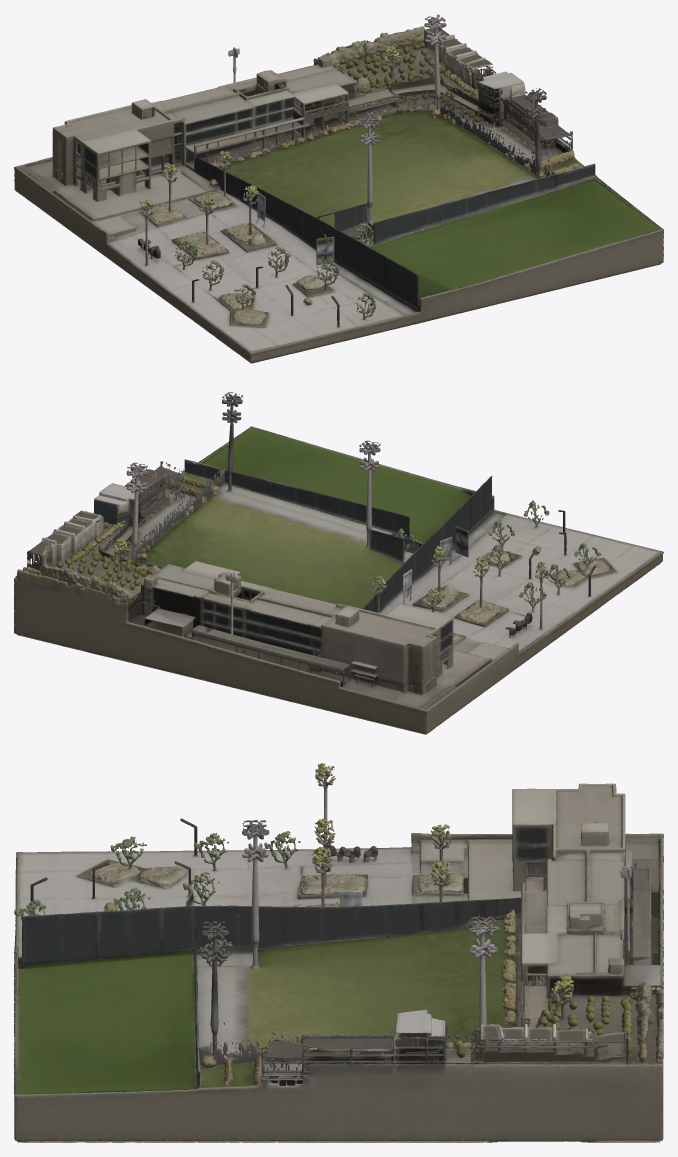
The model's file is el-hadaf-training-center-2.glb.
The picture shows the model from 3 angles, top to bottom: view 1: azimuth 30°, elevation 25°; view 2: azimuth 150°, elevation 25°; view 3: azimuth 270°, elevation 25°; orthographic projection. The views are drawn at different scales.
Bounding box in the file's own units: 0.9962 × 0.3116 × 0.9906.
Materials: 1 (1 with a texture image).
